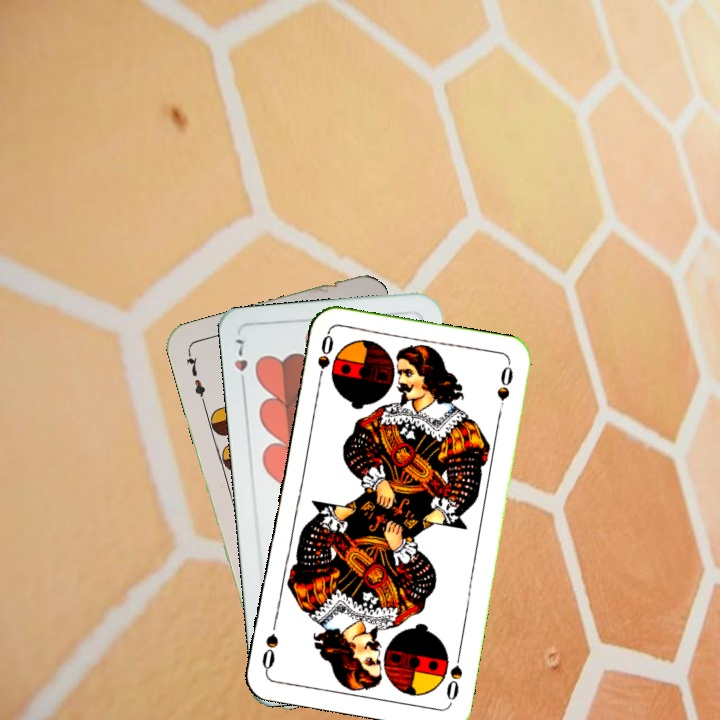E7: (183, 347, 208, 405)
H7: (230, 334, 251, 391)
SO: (313, 329, 337, 388), (442, 646, 465, 705)
